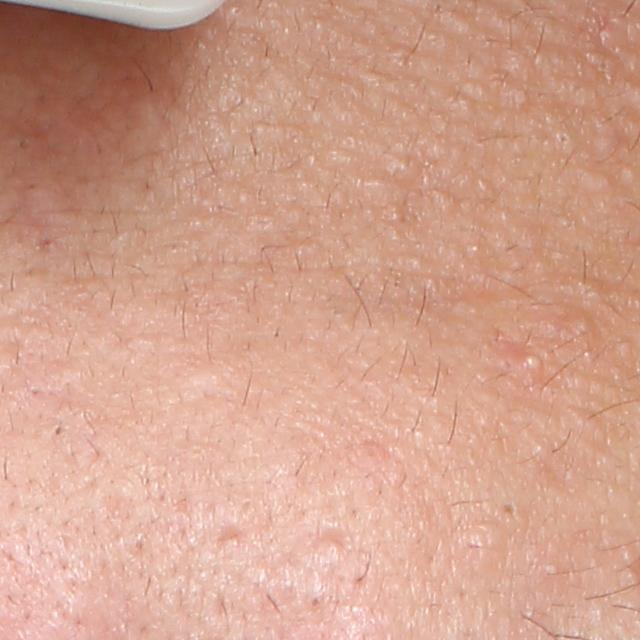comedo: (312, 534, 350, 564), (548, 124, 576, 159), (386, 150, 421, 177), (576, 313, 597, 339), (46, 420, 70, 441), (499, 497, 519, 519)
